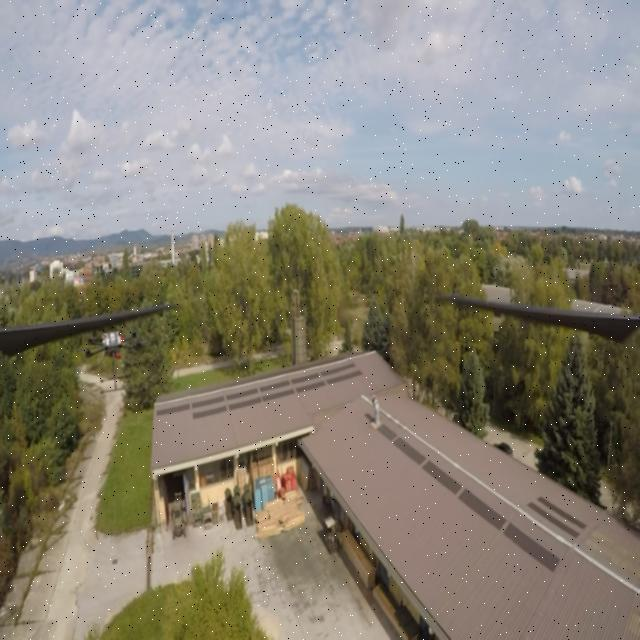UAV: (84, 332, 140, 393)
